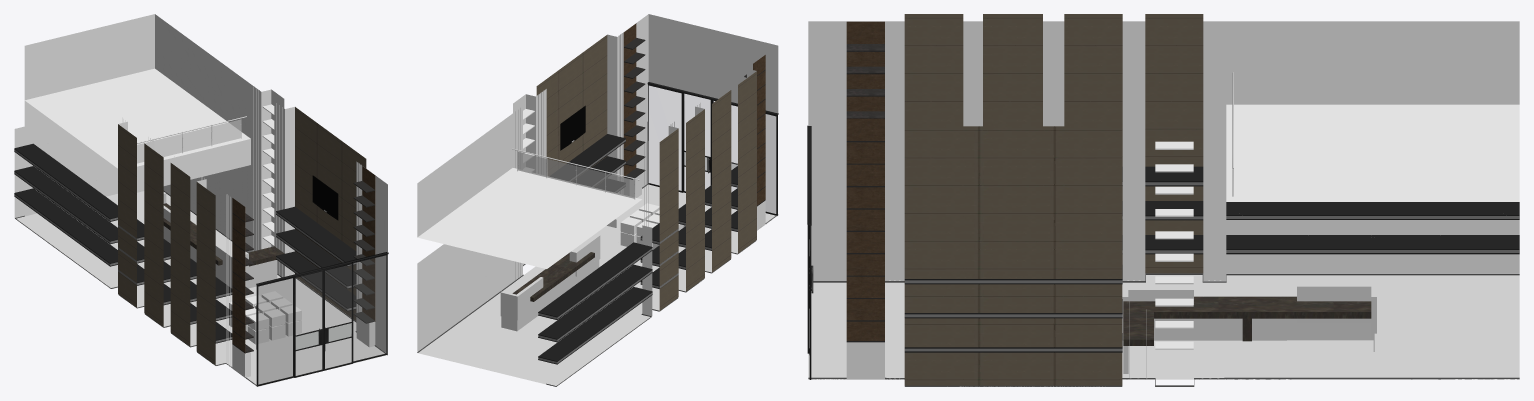
3 views of the same model, side by side, from view 1: azimuth 30°, elevation 25°; view 2: azimuth 150°, elevation 25°; view 3: azimuth 270°, elevation 25° (orthographic). The views are drawn at different scales.
Visible parts, largest first — view 1: Plane.024, Plane014.001, Line211.002, Plane001.001, Plane011.002, Plane016.001, Plane009.001, Cube002.001, Plane006.001, Plane008.001, Plane021.001, Plane004.001 (+14 smaller); view 2: Plane.024, Plane014.001, Plane011.002, Plane016.001, Line211.002, Plane021.001, Plane009.001, Cube012.001, Plane008.001, Plane004.001, Plane006.001, Plane003.001 (+10 smaller); view 3: Plane.024, Plane014.001, Plane011.002, Plane016.001, Plane003.001, Cube.020, Cube012.002, Plane010.001, Cube012.001, Plane012.001, Plane006.001, Plane009.001 (+8 smaller).
Part boxes in pixels (<box>): Plane.024: <box>14,14,387,366</box>; Plane014.001: <box>118,107,366,364</box>; Line211.002: <box>256,252,388,386</box>; Plane001.001: <box>24,14,154,216</box>; Plane011.002: <box>16,191,386,386</box>; Plane016.001: <box>14,143,117,266</box>; Plane009.001: <box>276,206,356,311</box>; Cube002.001: <box>229,291,301,344</box>; Plane006.001: <box>232,198,245,353</box>; Plane008.001: <box>137,219,232,343</box>; Plane021.001: <box>137,119,241,163</box>; Plane004.001: <box>353,181,374,323</box>; Plane.024: <box>417,14,778,351</box>; Plane014.001: <box>536,35,756,310</box>; Plane011.002: <box>418,184,776,385</box>; Plane016.001: <box>538,242,652,364</box>; Line211.002: <box>647,82,778,215</box>; Plane021.001: <box>518,152,634,198</box>; Plane009.001: <box>550,134,625,192</box>; Cube012.001: <box>500,234,600,320</box>; Plane008.001: <box>640,166,737,288</box>; Plane004.001: <box>624,38,645,179</box>; Plane006.001: <box>753,55,765,205</box>; Plane003.001: <box>623,23,636,177</box>; Plane.024: <box>808,21,1519,378</box>; Plane014.001: <box>904,14,1203,385</box>; Plane011.002: <box>808,275,1519,386</box>; Plane016.001: <box>1226,202,1519,254</box>; Plane003.001: <box>846,118,884,340</box>; Cube.020: <box>1123,296,1371,345</box>; Cube012.002: <box>1122,318,1374,351</box>; Plane010.001: <box>1155,141,1193,349</box>; Cube012.001: <box>1122,284,1376,333</box>; Plane012.001: <box>808,273,1519,386</box>; Plane006.001: <box>846,21,884,111</box>; Plane009.001: <box>904,265,1122,352</box>.
Bounding box in the file's own units: 4.63 × 5 × 12.38.
Materials: 21 (6 with a texture image).
